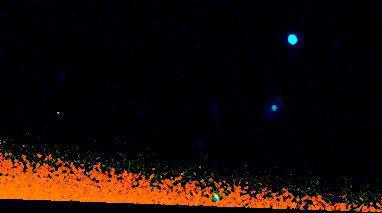star: (38, 100, 68, 130)
